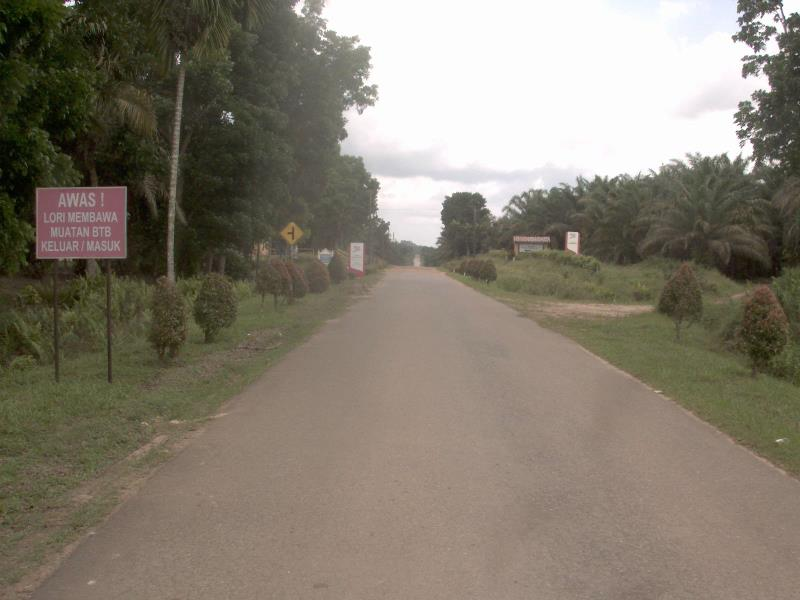ads_sign: (25, 178, 139, 269)
